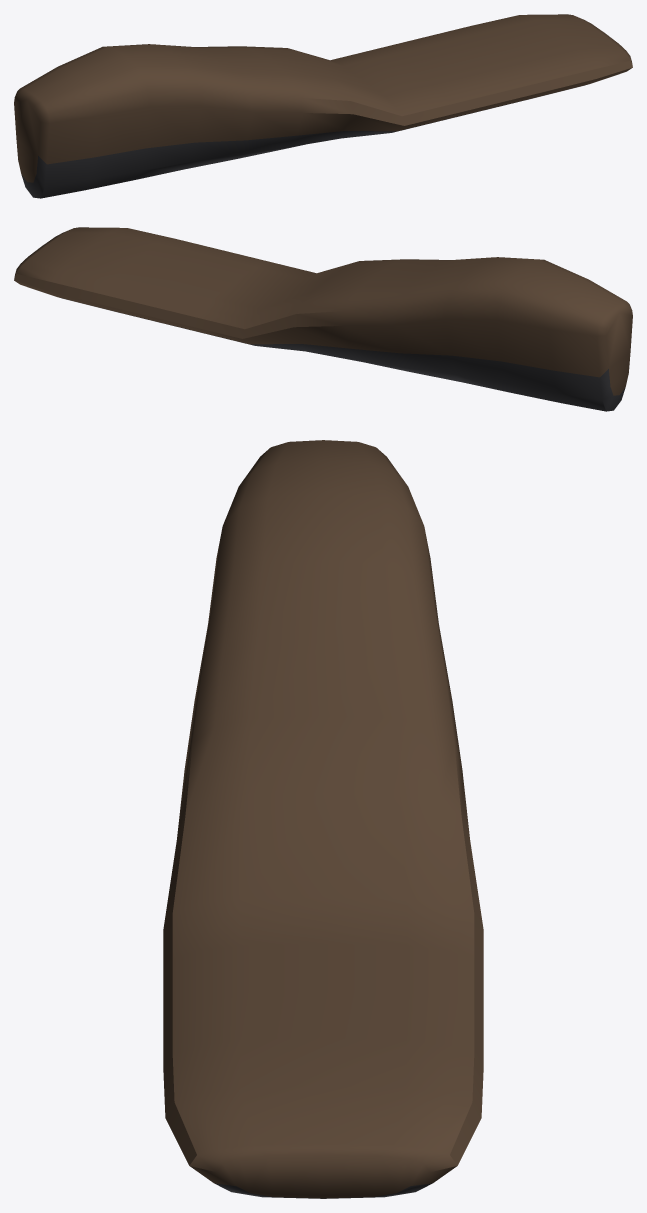
File: sport_lod1.glb
3 views of the same model, one above another, from view 1: azimuth 30°, elevation 25°; view 2: azimuth 150°, elevation 25°; view 3: azimuth 270°, elevation 25° (orthographic). The views are drawn at different scales.
Parts seen in each view (by area): view 1: sport_lod1; view 2: sport_lod1; view 3: sport_lod1.
Part boxes in pixels (left/top/right/bottom): sport_lod1: left=14, top=14, right=632, bottom=198; sport_lod1: left=14, top=227, right=632, bottom=411; sport_lod1: left=163, top=440, right=483, bottom=1198.
Bounding box in the file's own units: 1 × 0.1994 × 0.2399.
